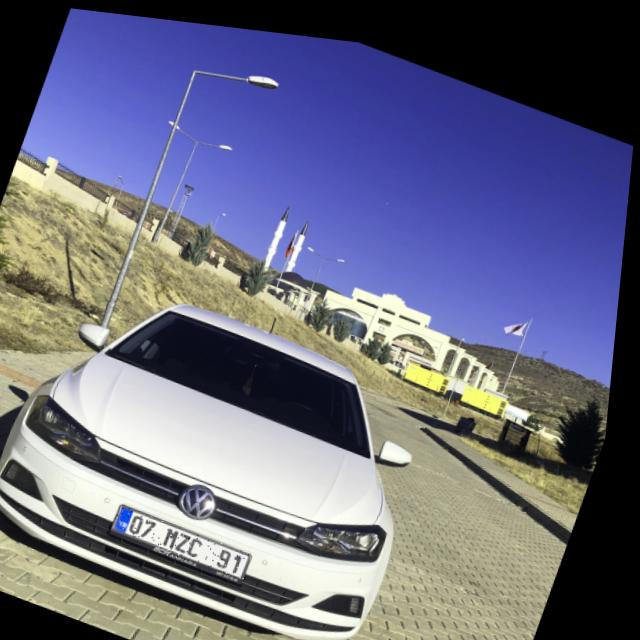license_plate: (118, 499, 265, 573)
